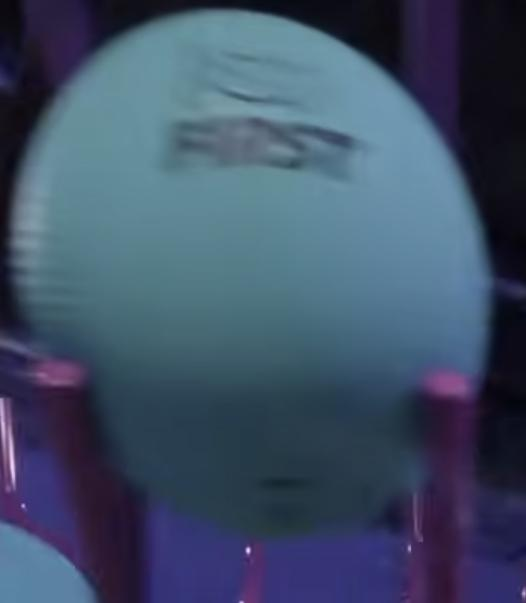algae: (13, 14, 490, 539), (0, 523, 97, 603)
